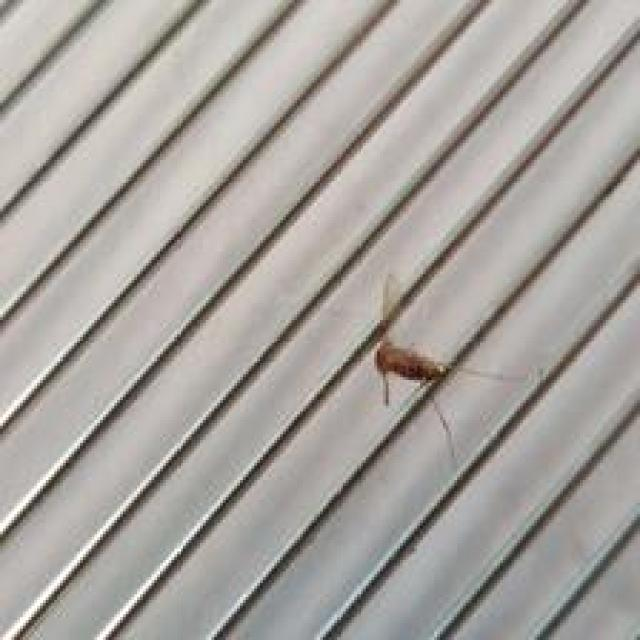Culex: (367, 271, 536, 466)
